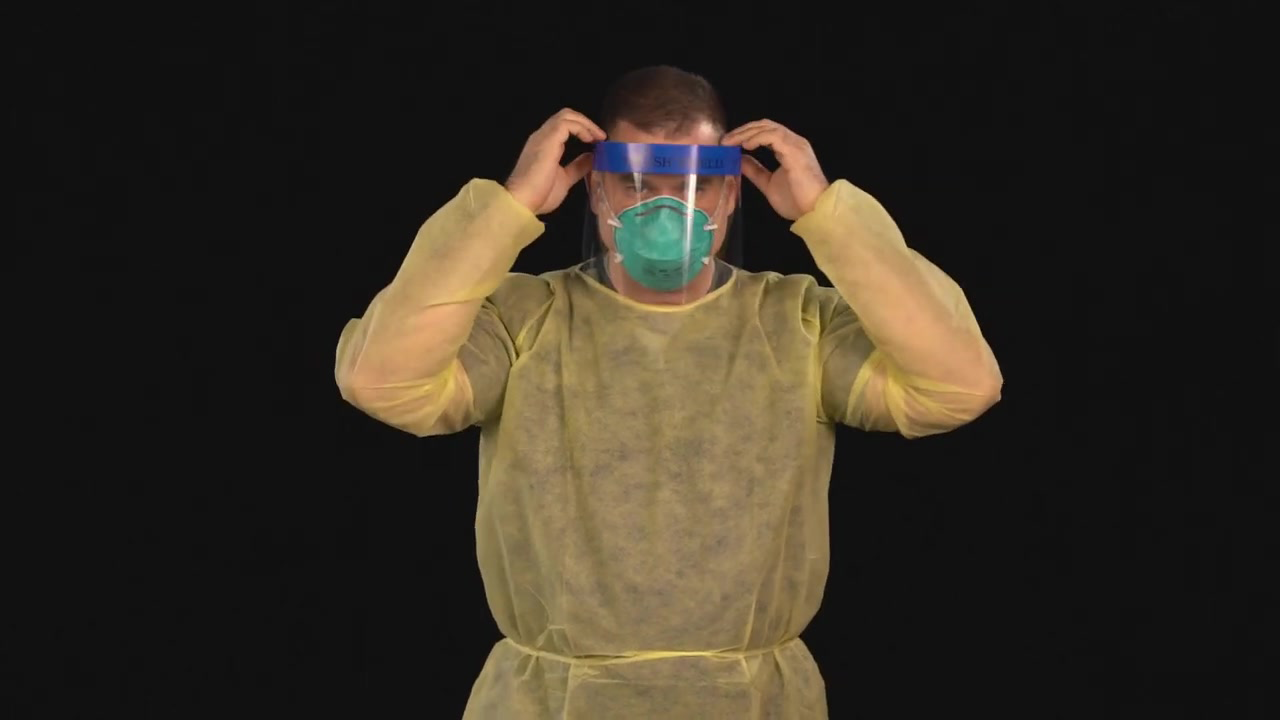Coverall: (375, 270, 922, 720)
Face_Shield: (583, 134, 748, 301)
with_mask: (615, 180, 723, 285)
